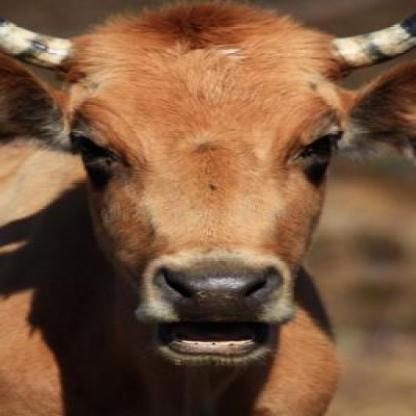lower: (196, 357, 231, 369)
mouth: (139, 260, 299, 380)
upper: (155, 269, 284, 321)
